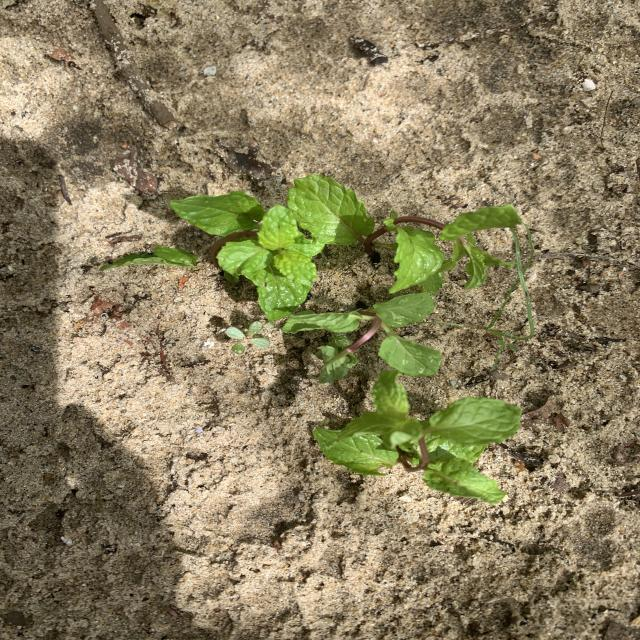crop: (312, 370, 520, 503), (287, 175, 521, 293), (170, 191, 324, 321), (284, 292, 441, 382)
weed: (450, 223, 535, 368), (225, 322, 270, 354)
